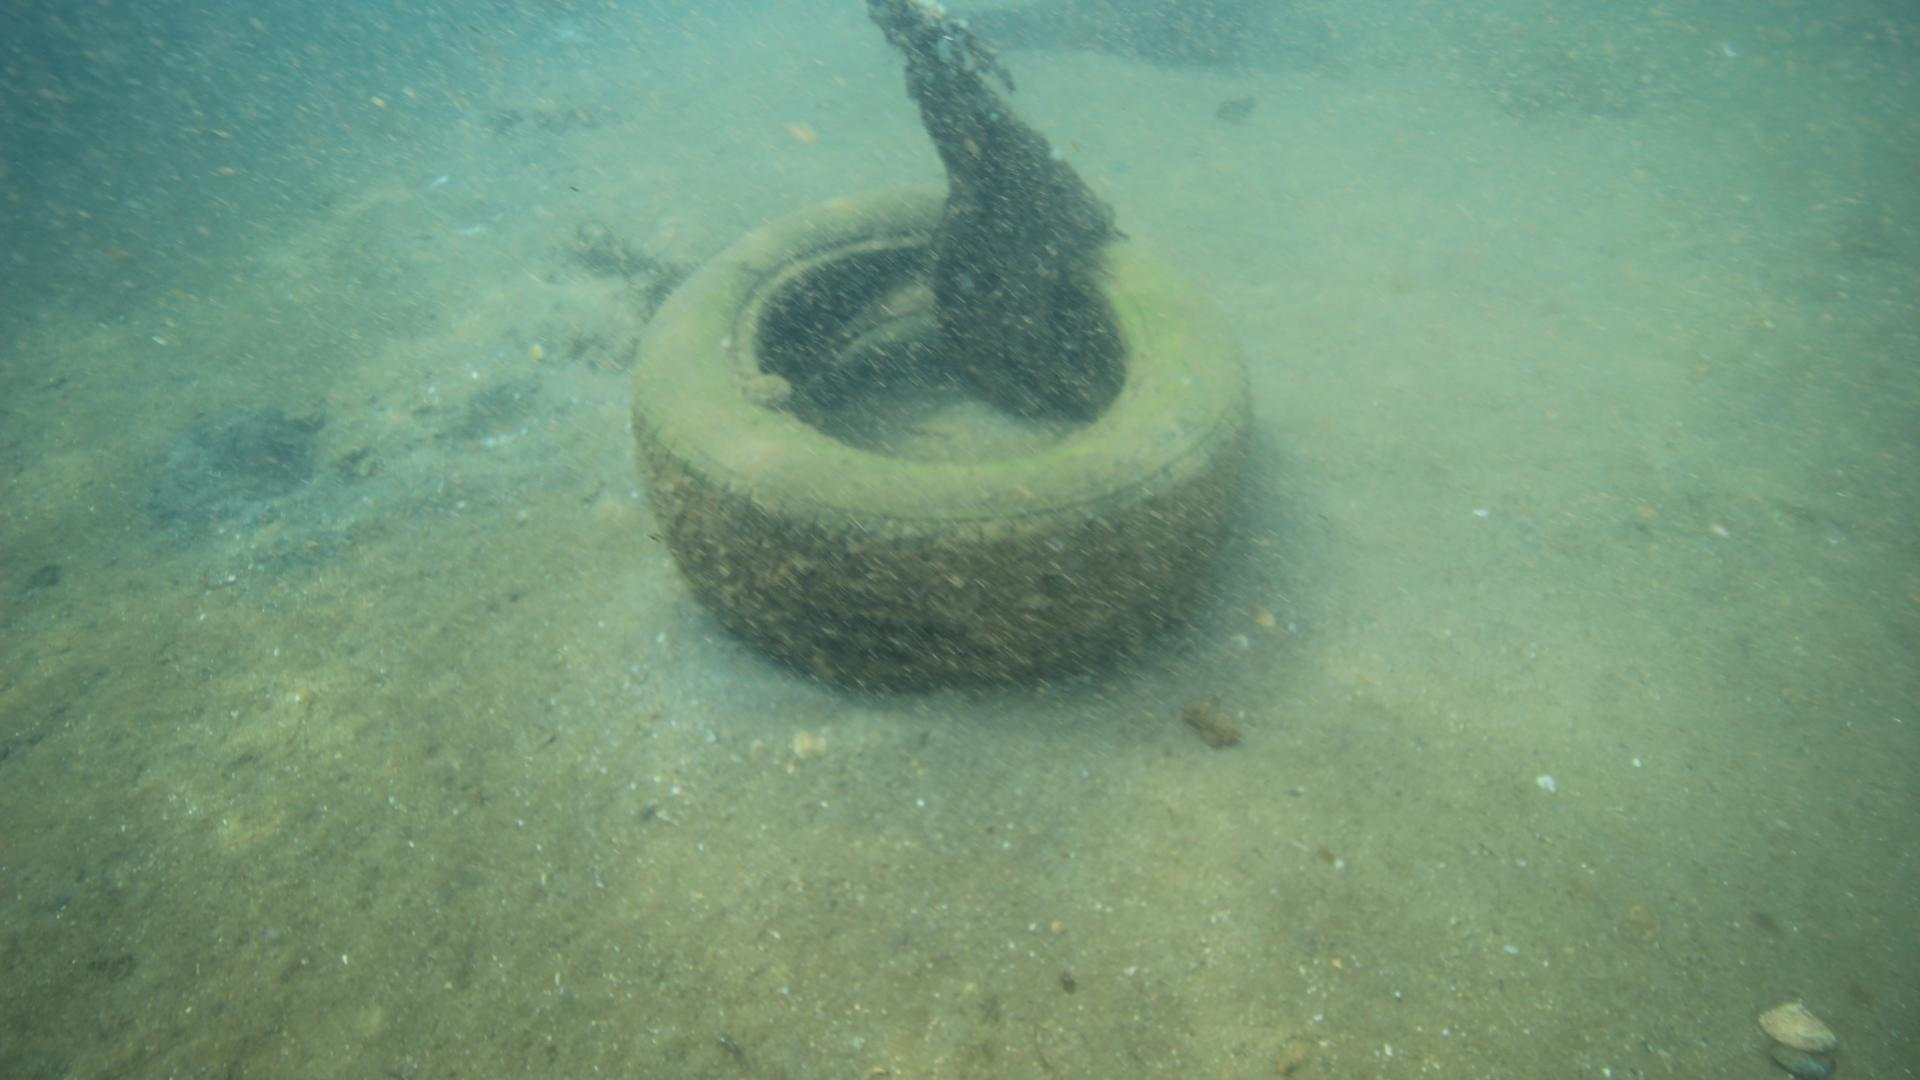tire: (629, 179, 1250, 690)
